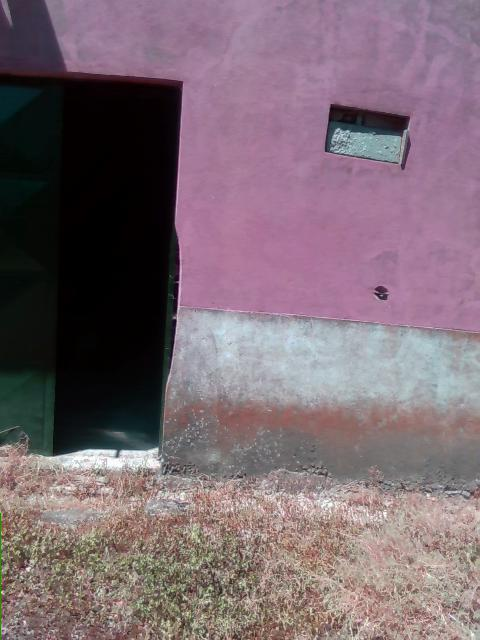open_door: (1, 69, 183, 477)
